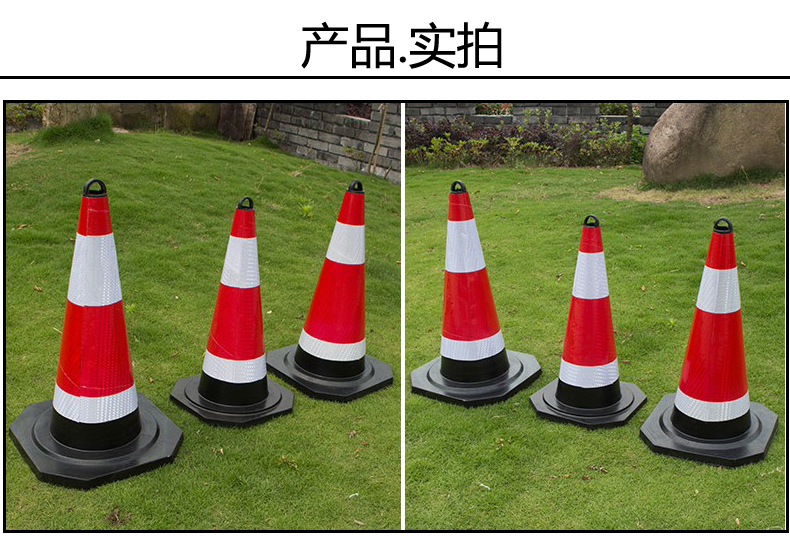traffic_cone: (12, 172, 184, 492), (644, 215, 788, 474), (262, 163, 403, 415), (513, 197, 659, 424), (162, 180, 291, 435), (416, 167, 536, 423)
